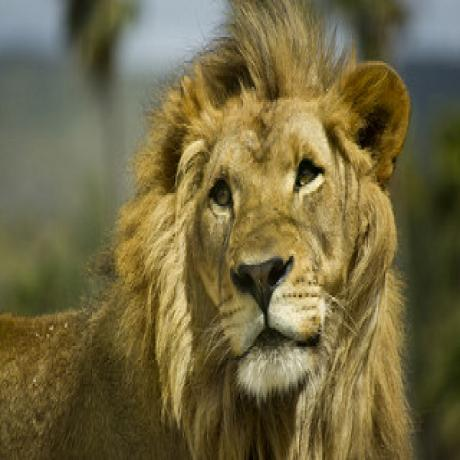Lion: (0, 10, 410, 460)
